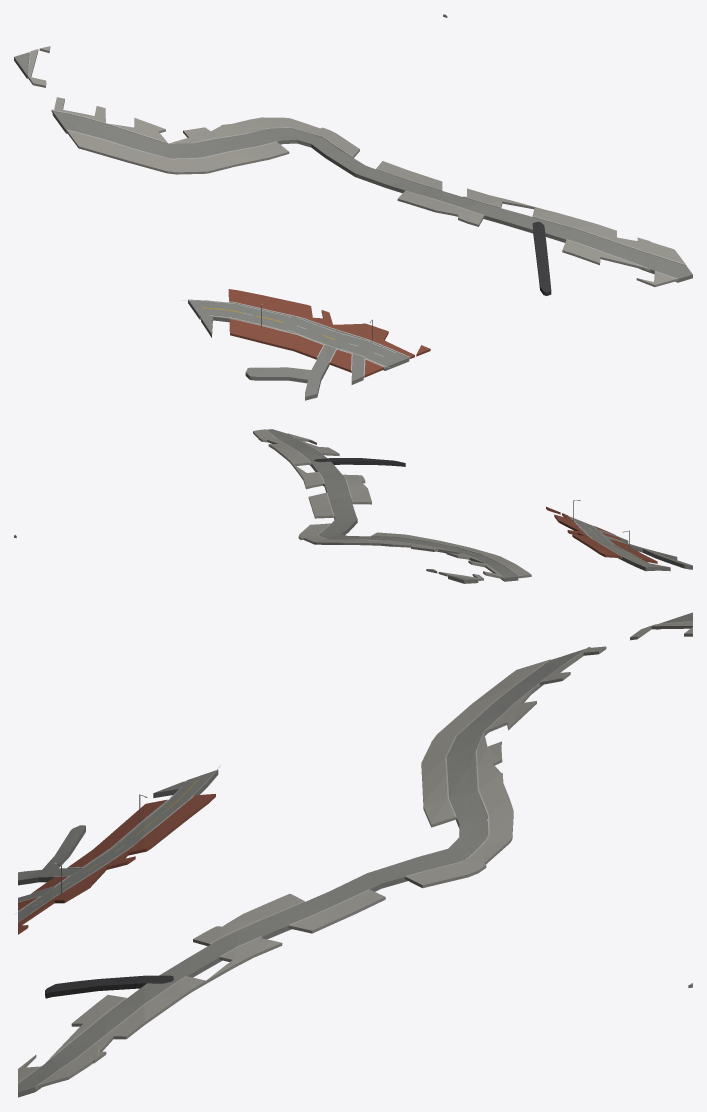
3 views of the same model, one above another, from view 1: azimuth 30°, elevation 25°; view 2: azimuth 150°, elevation 25°; view 3: azimuth 270°, elevation 25° (orthographic). The views are drawn at different scales.
Bounding box in the file's own units: 149 × 56.97 × 147.
